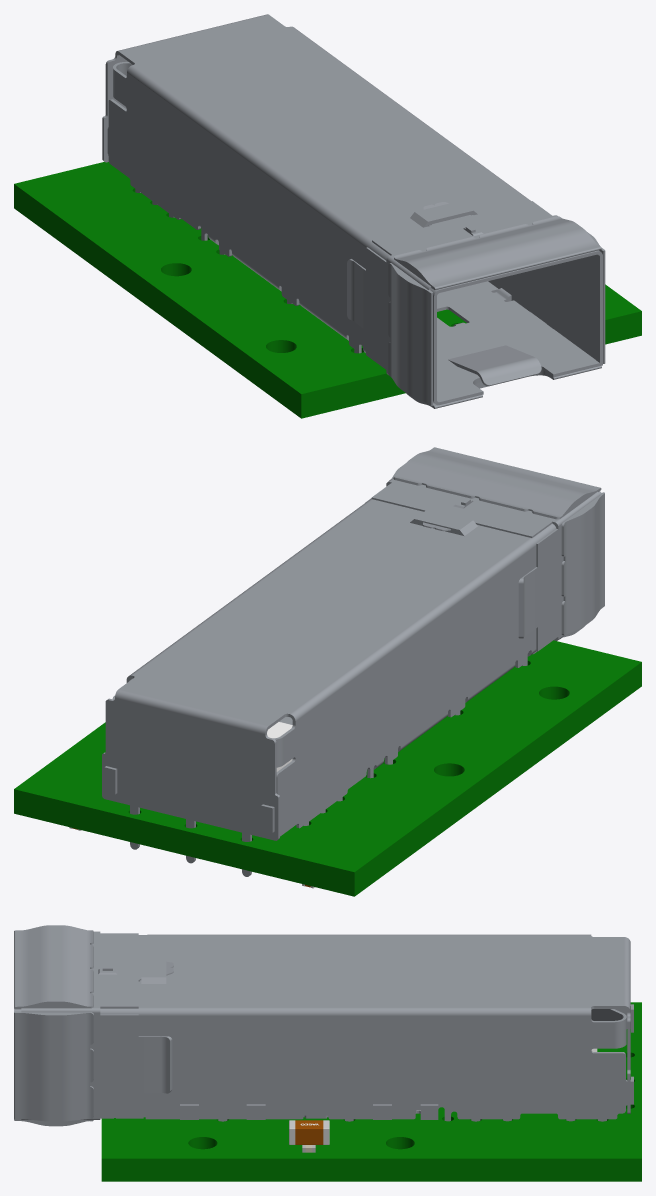
File: lxfiber-3d.glb
3 views of the same model, one above another, from view 1: azimuth 30°, elevation 25°; view 2: azimuth 150°, elevation 25°; view 3: azimuth 270°, elevation 25° (orthographic). The views are drawn at different scales.
Visible parts, largest first — view 1: PCB; view 2: PCB; view 3: PCB.
Part boxes in pixels (x1=…): PCB: x1=14, y1=14, x2=641, y2=418; PCB: x1=14, y1=447, x2=641, y2=896; PCB: x1=14, y1=925, x2=641, y2=1181.
Size of the model in its own units: 0.0292 by 0.0135 by 0.0496.
Materials: 1 (1 with a texture image).
